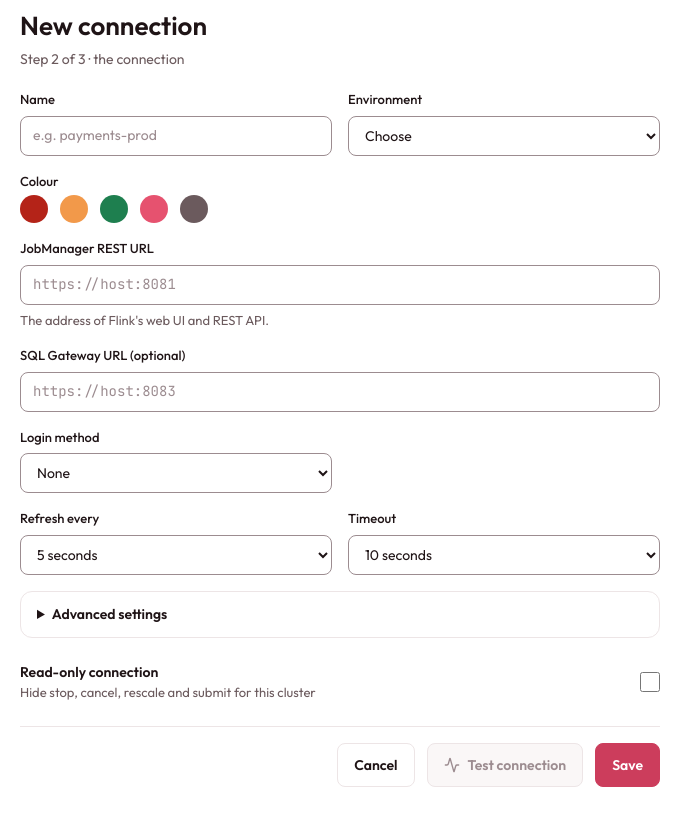
Scenario: CONN-02 the connection form (boards D02, D02c) › a field says its problem on blur, with the catalog words
Click the field labelled "Name" at (176, 136), box [20,116,332,156]
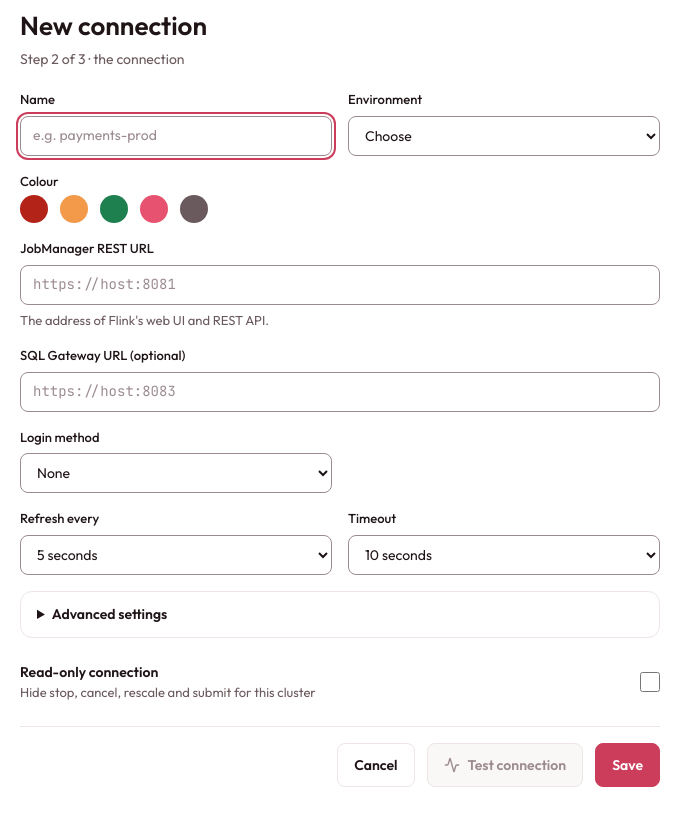
Press Tab
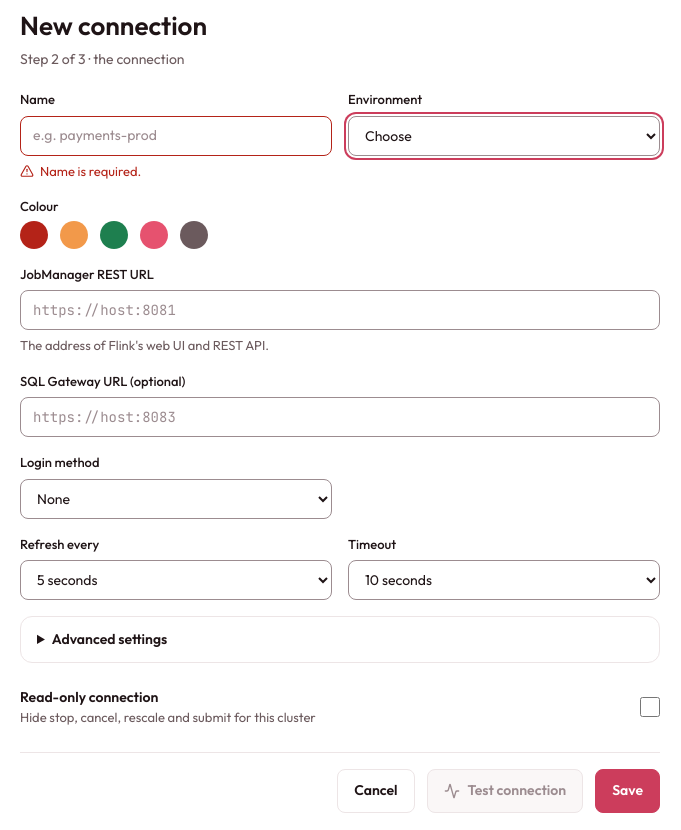
Check: the text "Name is required." is shown, box [20,162,141,178]
Type "flink:8081" into the field labelled "JobManager REST URL" at (340, 310), box [20,290,660,330]
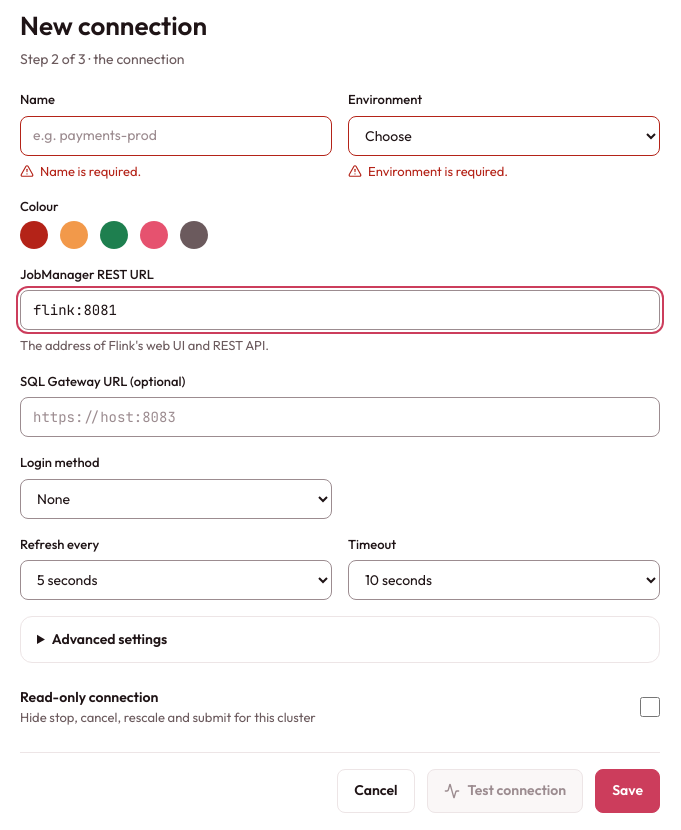
Press Tab
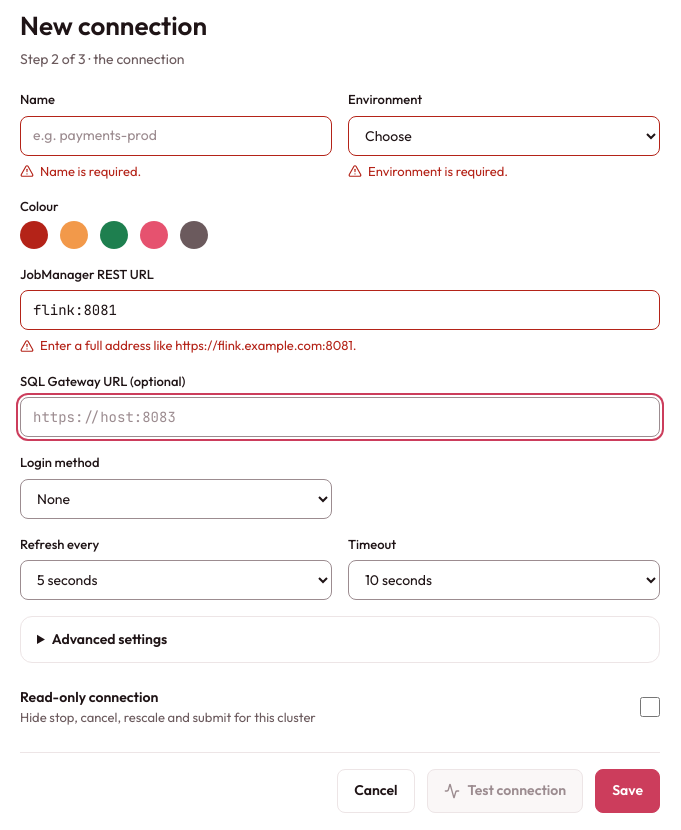
Check: the text "Enter a full address like https://flink.example.com:8081." is shown, box [20,337,356,353]
